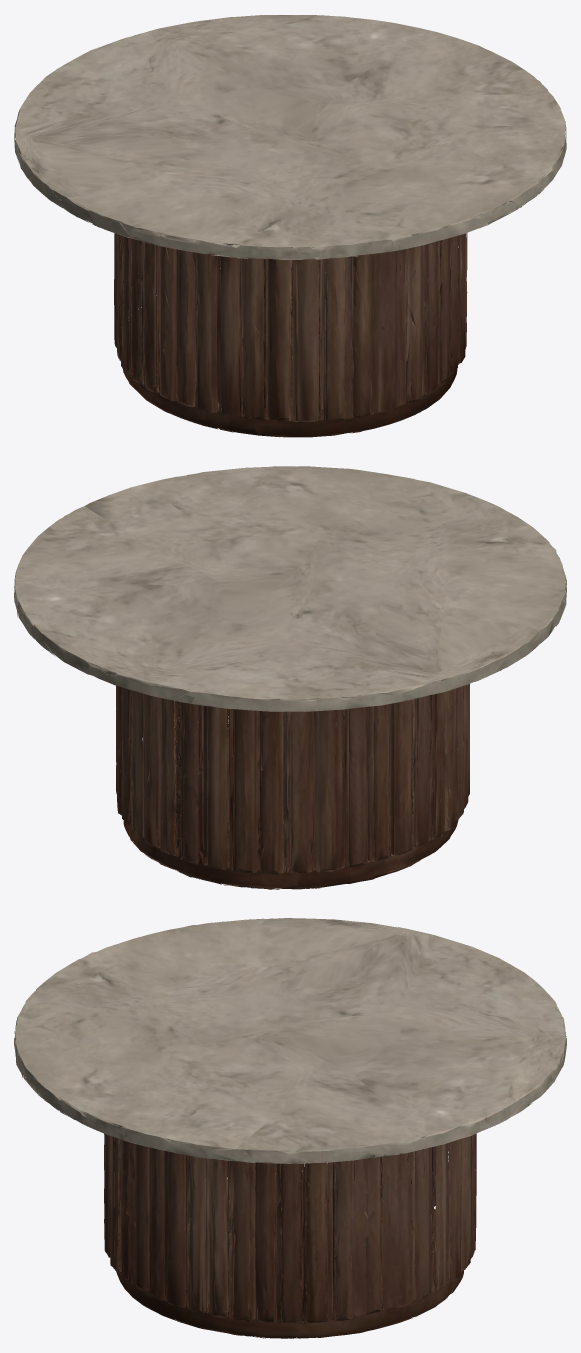
The model's file is lv_table.glb.
The picture shows the model from 3 angles, top to bottom: view 1: azimuth 30°, elevation 25°; view 2: azimuth 150°, elevation 25°; view 3: azimuth 270°, elevation 25°; orthographic projection.
Visible parts, largest first — view 1: geometry_0; view 2: geometry_0; view 3: geometry_0.
Boxes of the visible parts, x1,y1,x2,y2 form: geometry_0: (14,15,566,437); geometry_0: (14,466,566,889); geometry_0: (14,918,566,1338).
Bounding box in the file's own units: 1 × 0.4725 × 1.
1 material, 1 textured.
